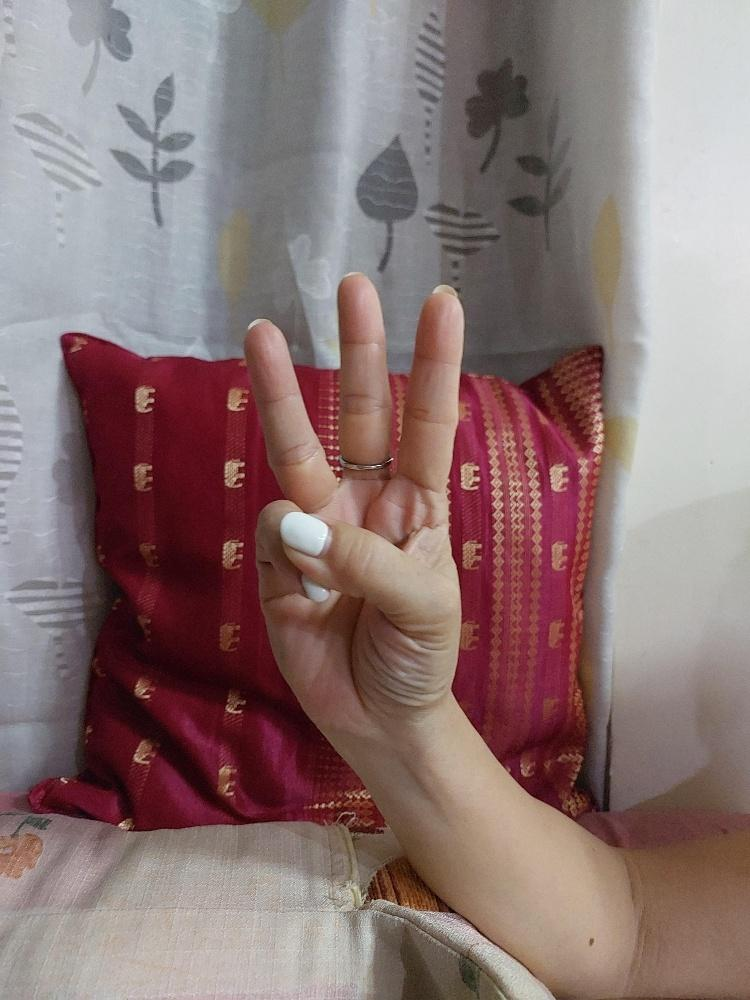w: (239, 270, 468, 728)
